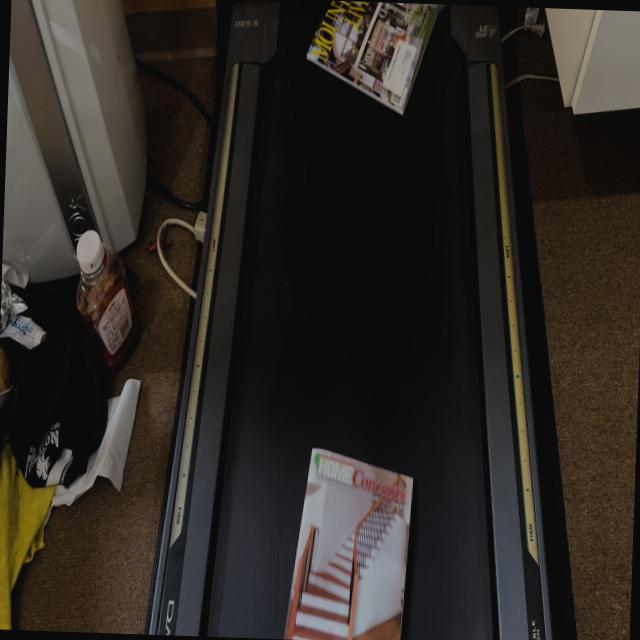Recycle: (285, 444, 416, 640), (296, 0, 438, 124)
